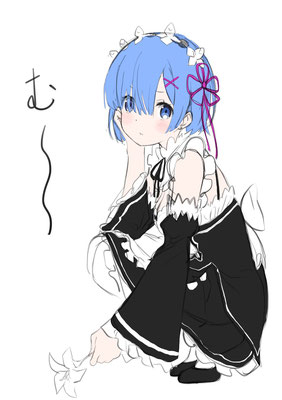rem: (88, 28, 271, 389)
